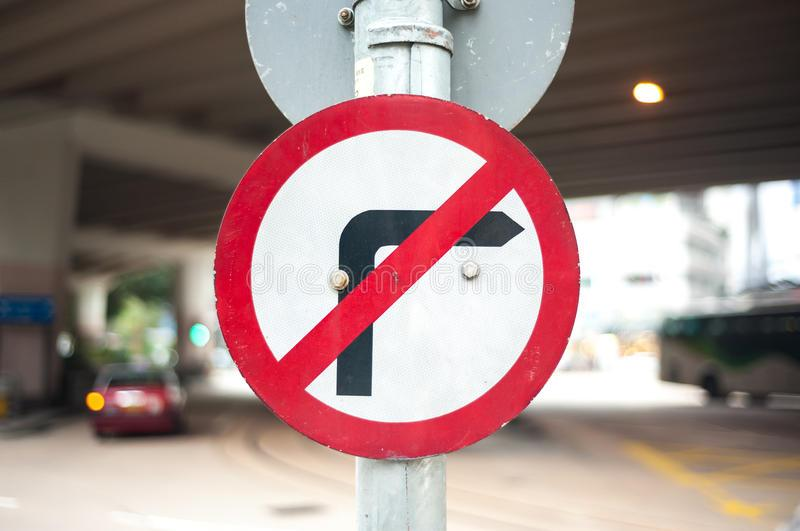no_right_turn: (210, 92, 580, 462)
